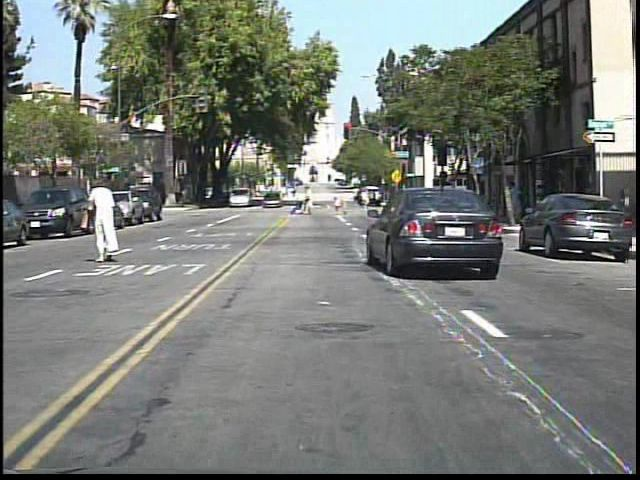person: (84, 175, 128, 268), (301, 184, 316, 217), (511, 180, 525, 211)
